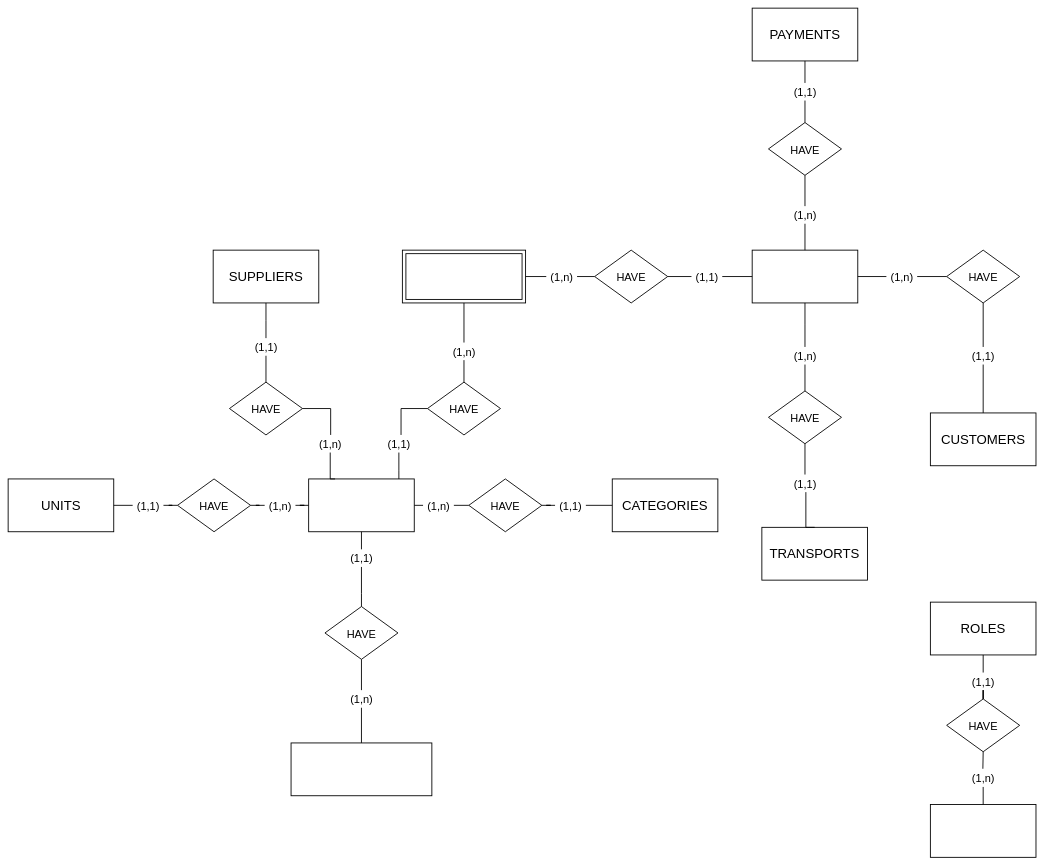
Some shapes in this 1044 by 865 pixel diagram are drawn without their labels. The centre of each missing label's shape, as x and y in pixels:
"ORDER_DETAILS" belongs at [464,276].
"ORDERS" belongs at [805,276].
"PRODUCT_IMAGES" belongs at [361,769].
"PRODUCTS" belongs at [361,505].
"USERS" belongs at [983,831].
